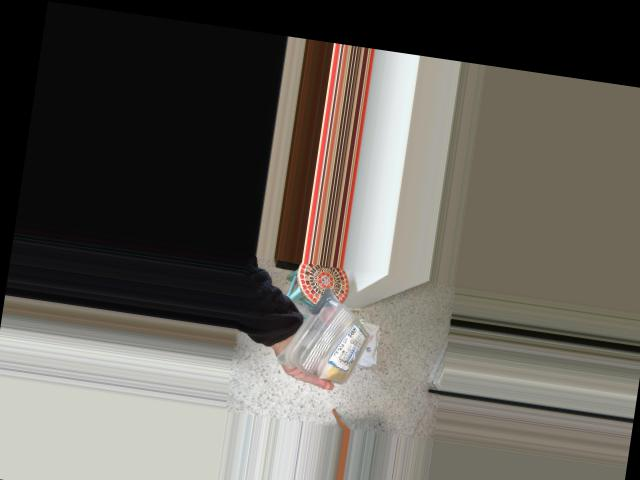cheese: (275, 277, 393, 387)
